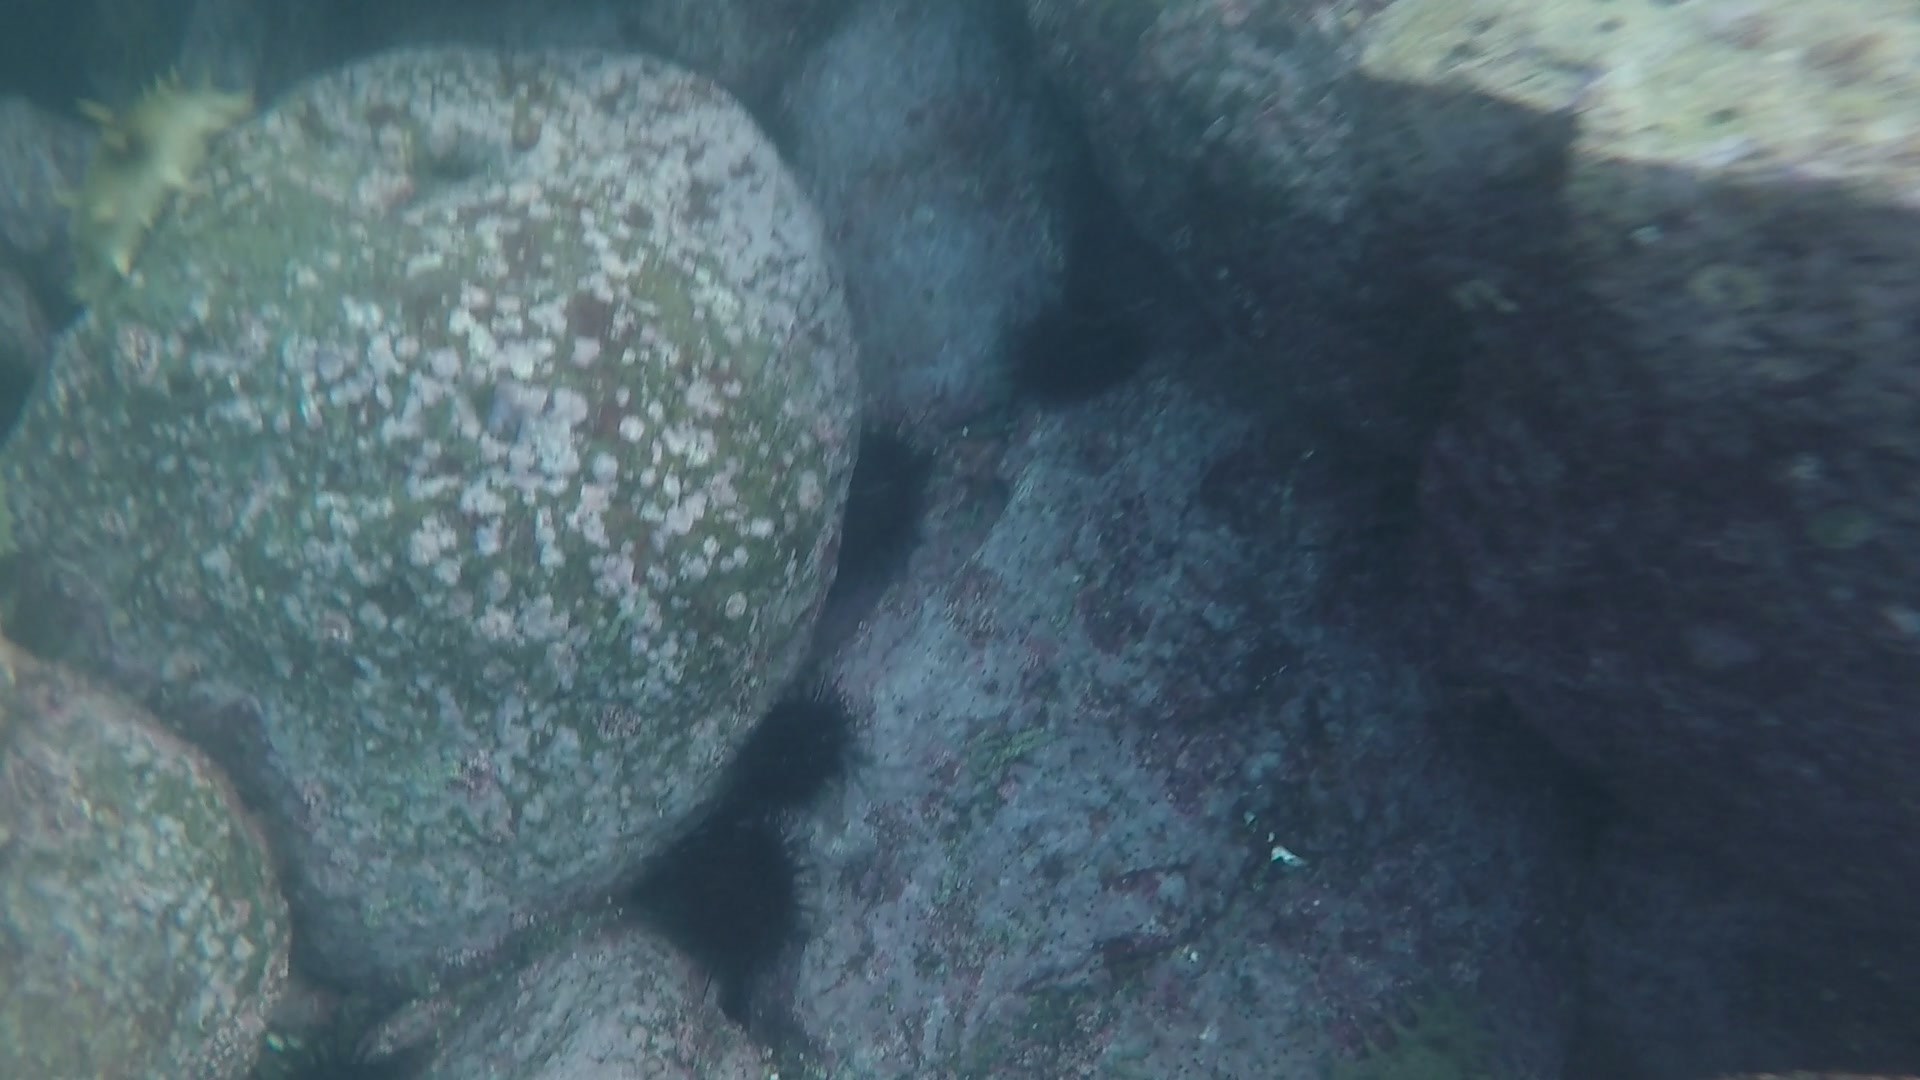echinus: (634, 808, 827, 975), (712, 673, 878, 802), (820, 418, 934, 589), (994, 294, 1156, 411)
holothurian: (65, 70, 255, 315)
